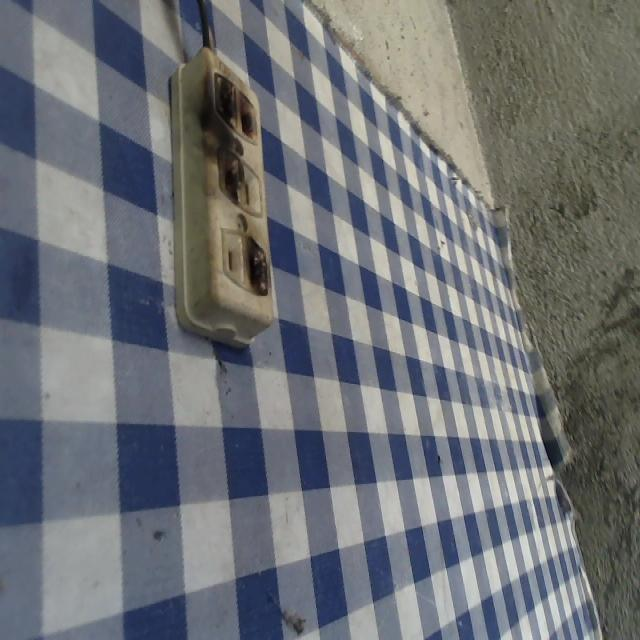-: (208, 65, 262, 144), (213, 144, 244, 205), (240, 233, 270, 296)
